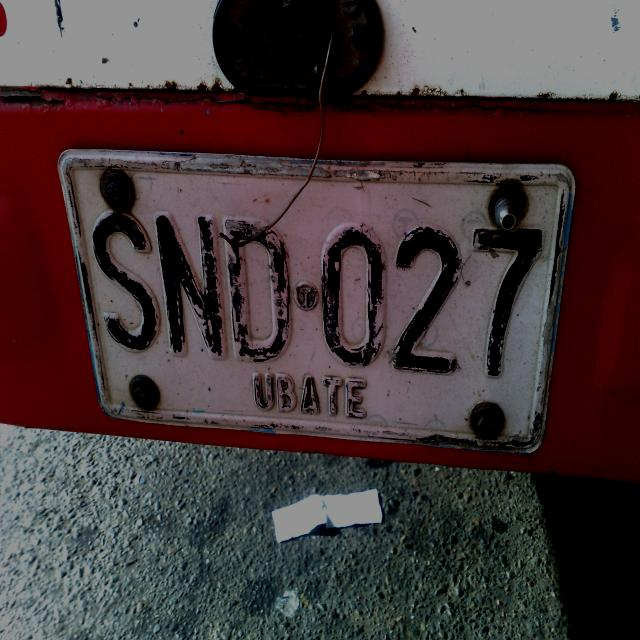placa: (49, 134, 576, 462)
